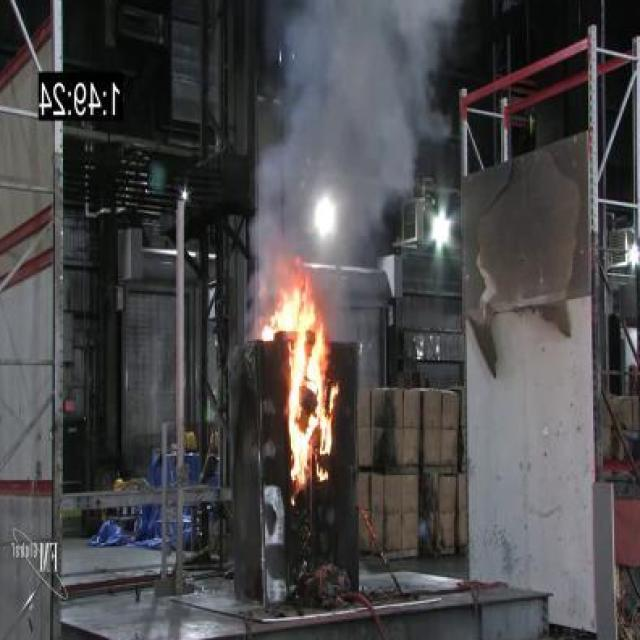fire: (254, 0, 461, 247)
smoke: (285, 320, 339, 486), (259, 272, 324, 342)
